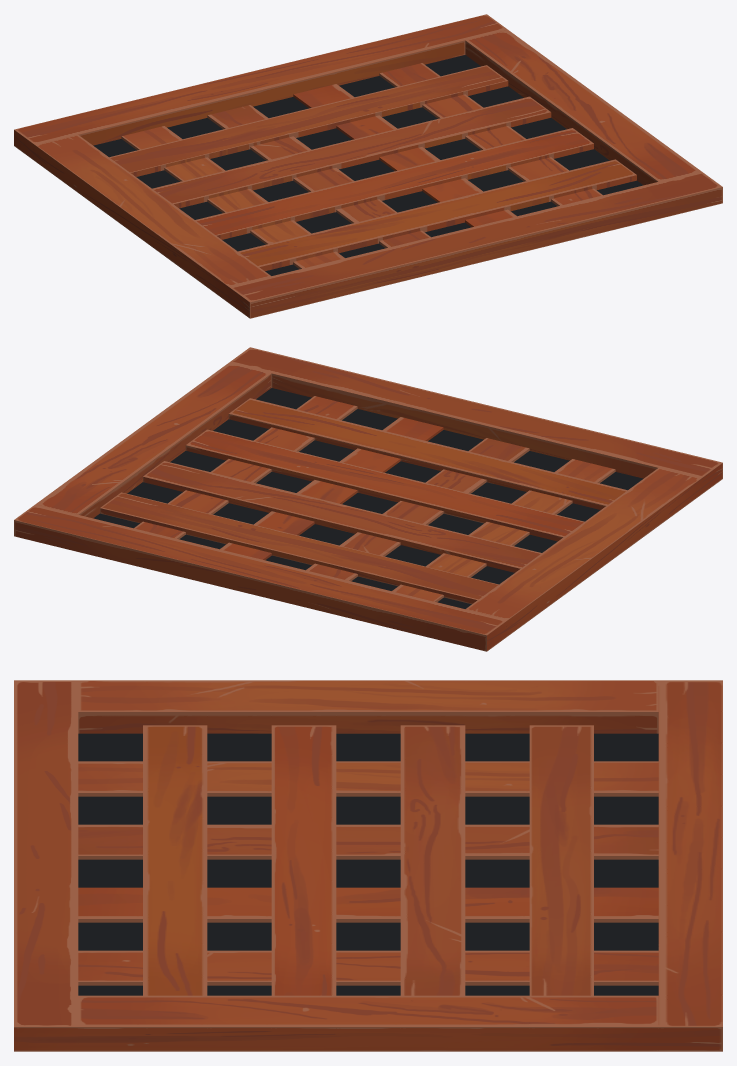
Rendered from cage.fbx.
3 renders of one model, top to bottom at view 1: azimuth 30°, elevation 25°; view 2: azimuth 150°, elevation 25°; view 3: azimuth 270°, elevation 25°, orthographic. The views are drawn at different scales.
Parts seen in each view (by area): view 1: pPlane3; view 2: pPlane3; view 3: pPlane3.
Part boxes in pixels (<box>): pPlane3: <box>14,14,722,318</box>; pPlane3: <box>14,347,722,651</box>; pPlane3: <box>14,680,722,1051</box>.
Size of the model in its own units: 1.59 by 0.0524 by 1.37.
